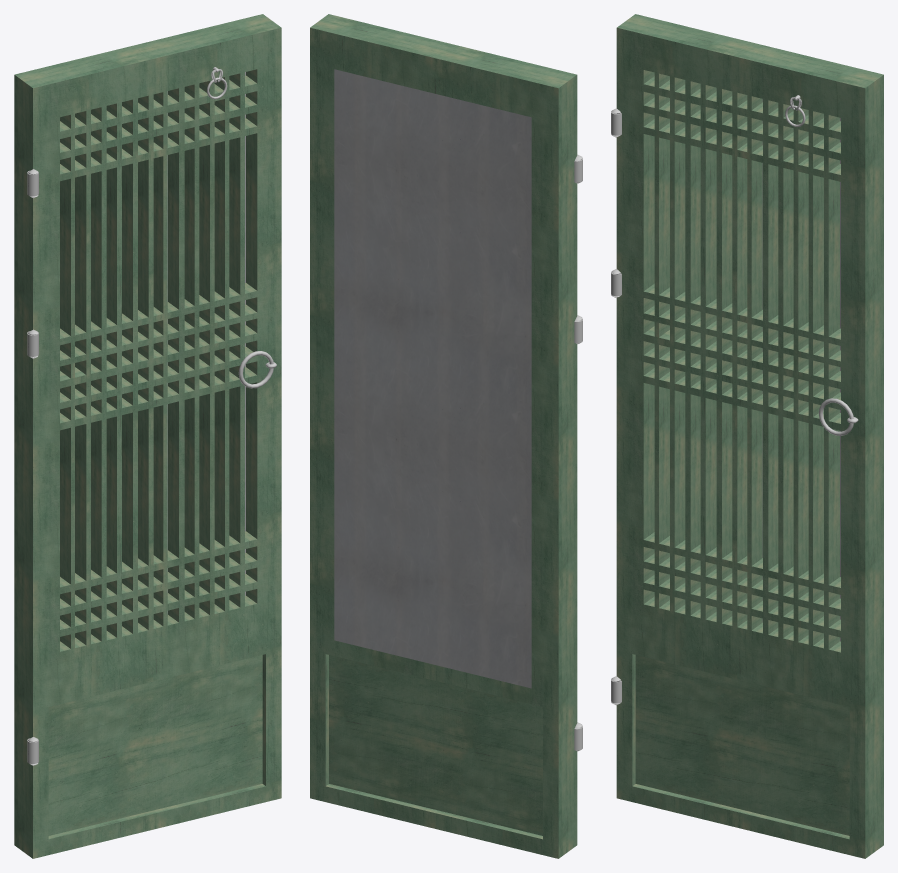
File: SM_D_Wood_2.FBX
The picture shows the model from 3 angles, left to right: view 1: azimuth 30°, elevation 25°; view 2: azimuth 150°, elevation 25°; view 3: azimuth 330°, elevation 25°; orthographic projection.
Parts seen in each view (by area): view 1: SM_D_Wood_2; view 2: SM_D_Wood_2; view 3: SM_D_Wood_2.
Part boxes in pixels (x1=…): SM_D_Wood_2: x1=14, y1=14, x2=281, y2=858; SM_D_Wood_2: x1=310, y1=14, x2=582, y2=858; SM_D_Wood_2: x1=611, y1=14, x2=883, y2=858.
Bounding box in the file's own units: 81.71 × 12.53 × 237.
